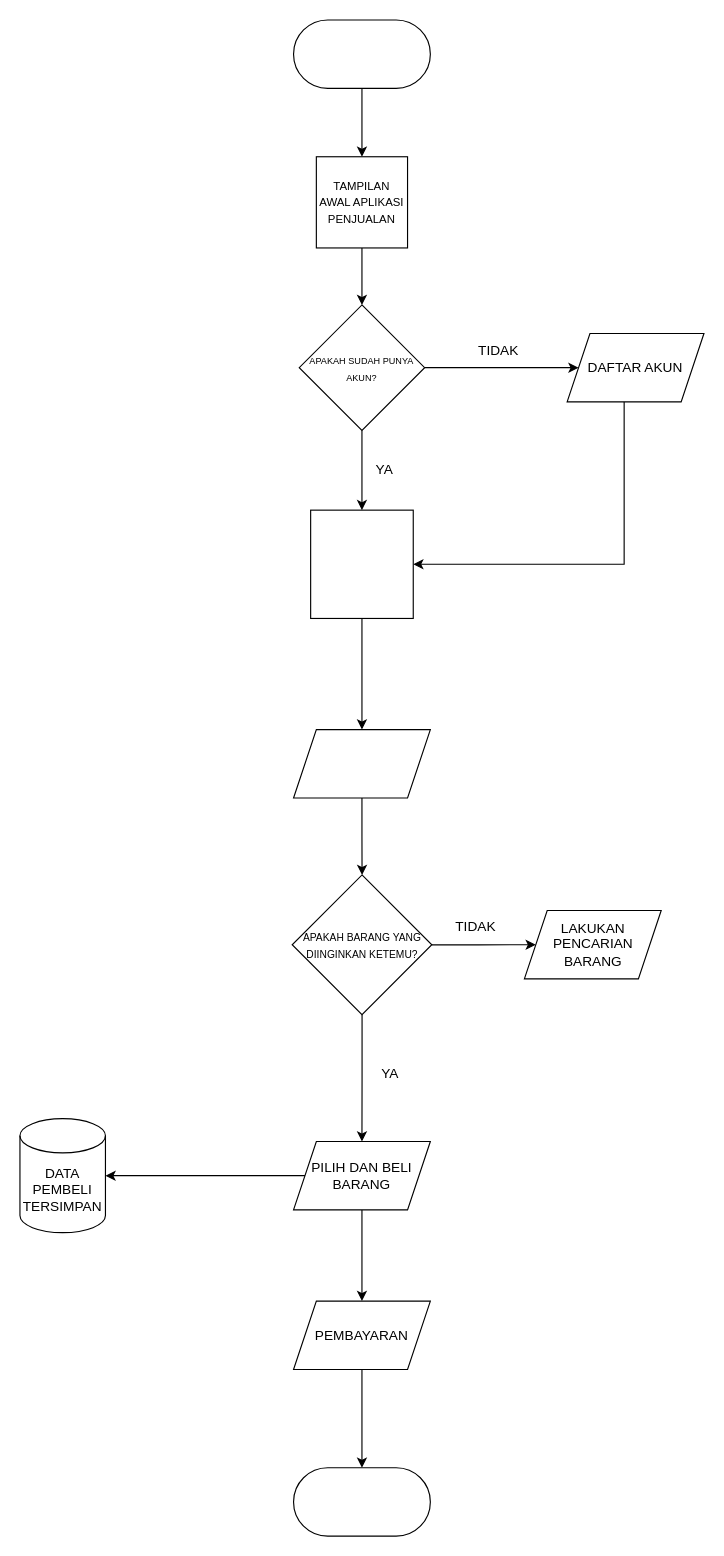
Some shapes in this 724 by 1556 pixel diagram are drawn without their labels. Here are the shapes that lost their labels. From the top down, the centre of each, then its label:
At point 361,53: "MULAI".
At point 361,563: "MASUK BERANDA APLIKASI".
At point 361,763: "CARI BARANG BERDASARKAN KATEGORI".
At point 361,1501: "SELESAI".
